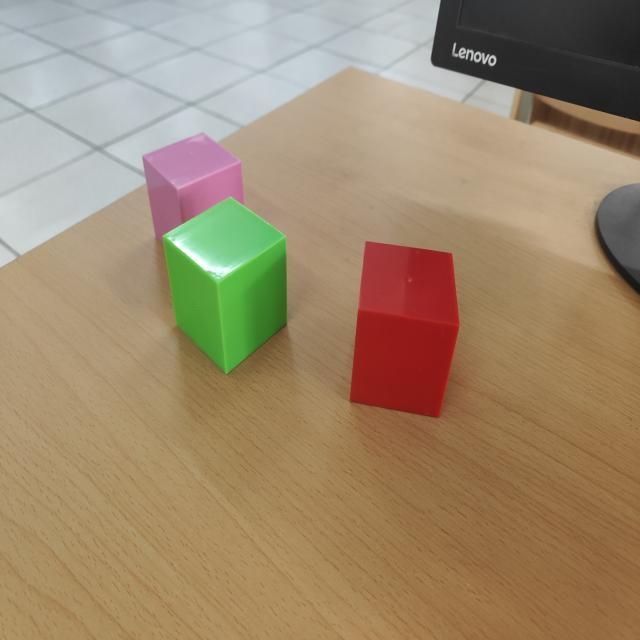green: (158, 198, 288, 376)
pink: (142, 134, 246, 238)
red: (349, 242, 461, 419)
